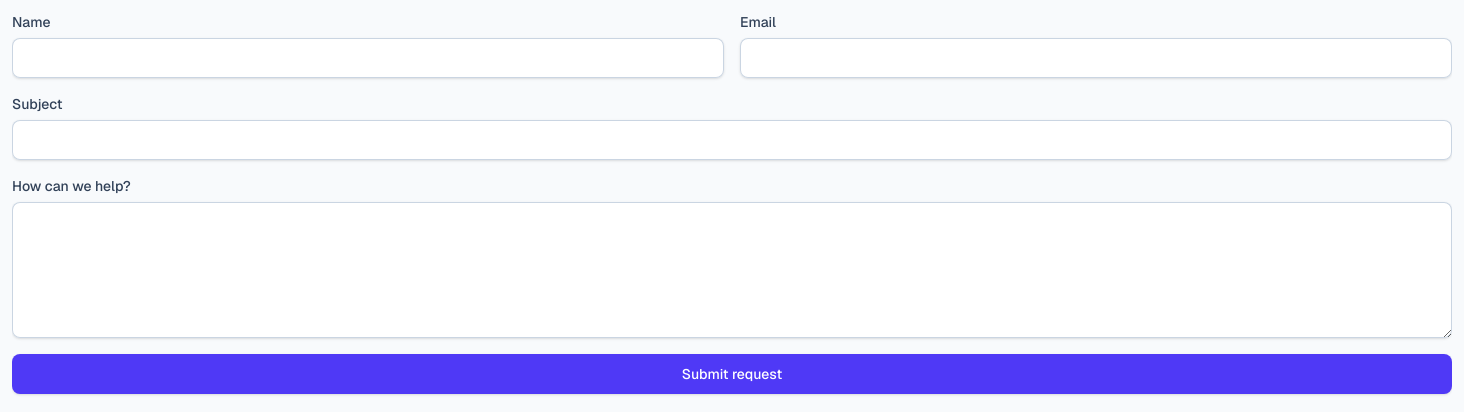
Test: TicketForm › submits the ticket and shows the confirmation
Type "Jane Doe" into the field labelled "Name".
click(368, 58); type("Jane Doe")  # box [12, 38, 724, 78]
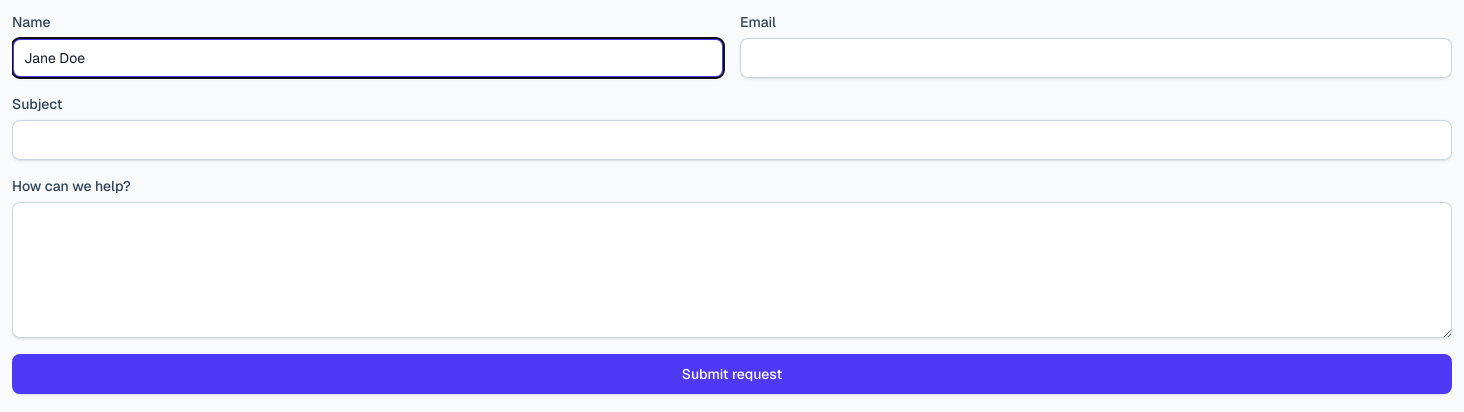
Type "jane@example.com" into the field labelled "Email".
click(1096, 58); type("jane@example.com")  # box [740, 38, 1452, 78]
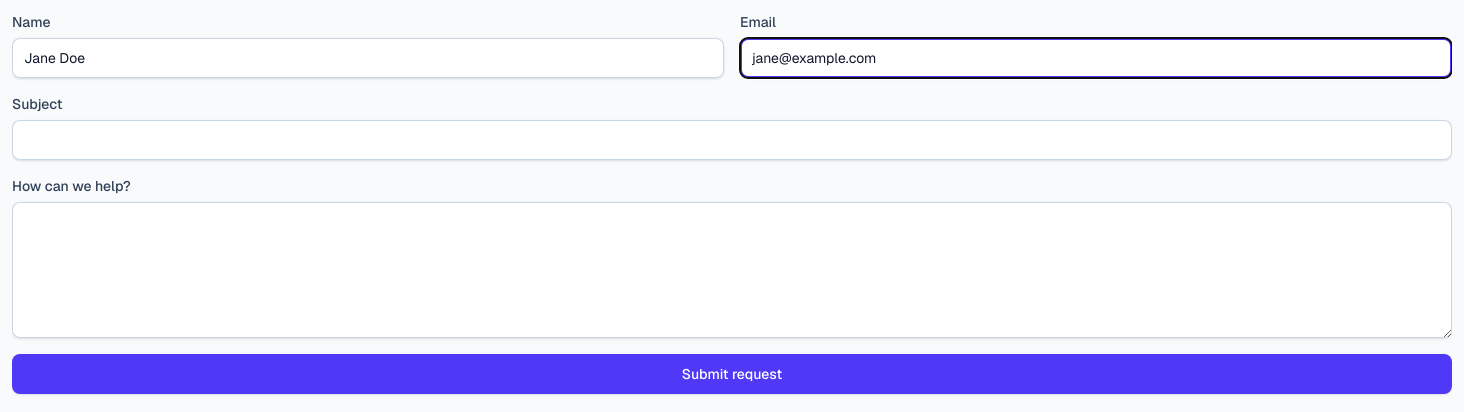
Type "Refund" into the field labelled "Subject".
click(732, 140); type("Refund")  # box [12, 120, 1452, 160]
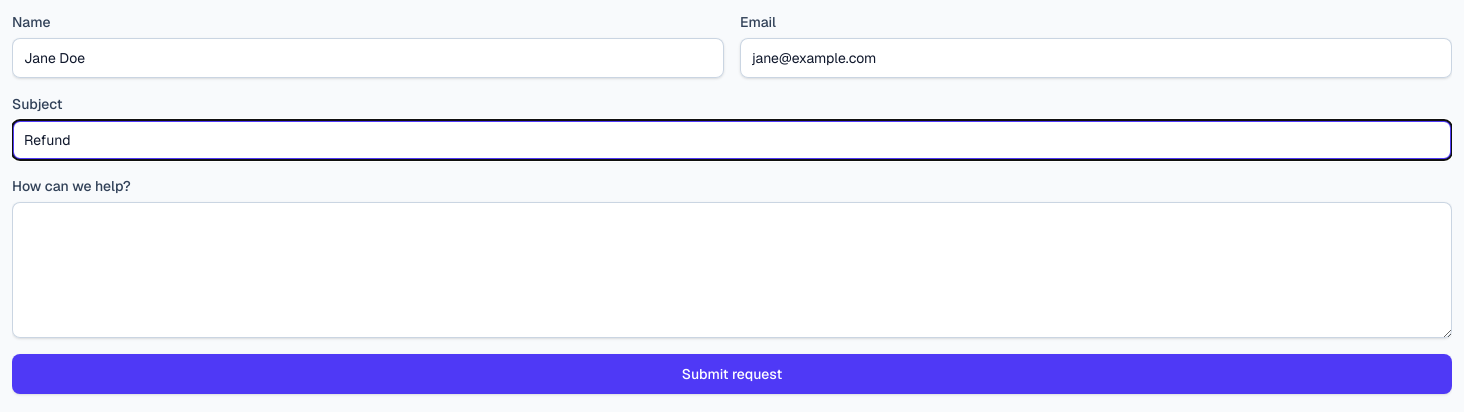
Type "I was charged twice." into the text box labelled "How can we help?".
click(732, 270); type("I was charged twice.")  # box [12, 202, 1452, 338]
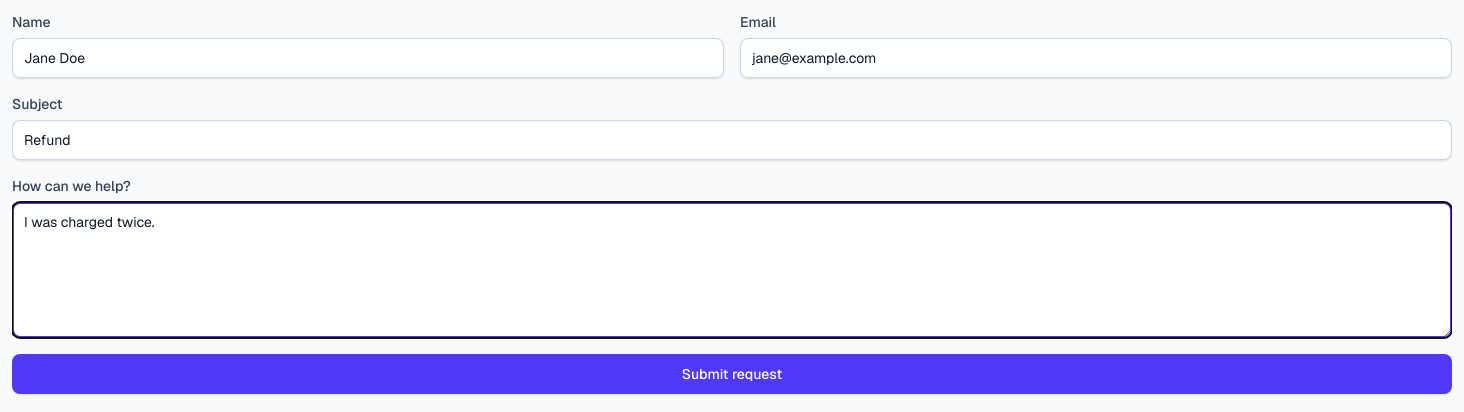
Click the button "Submit request".
click(732, 374)  # box [12, 354, 1452, 394]
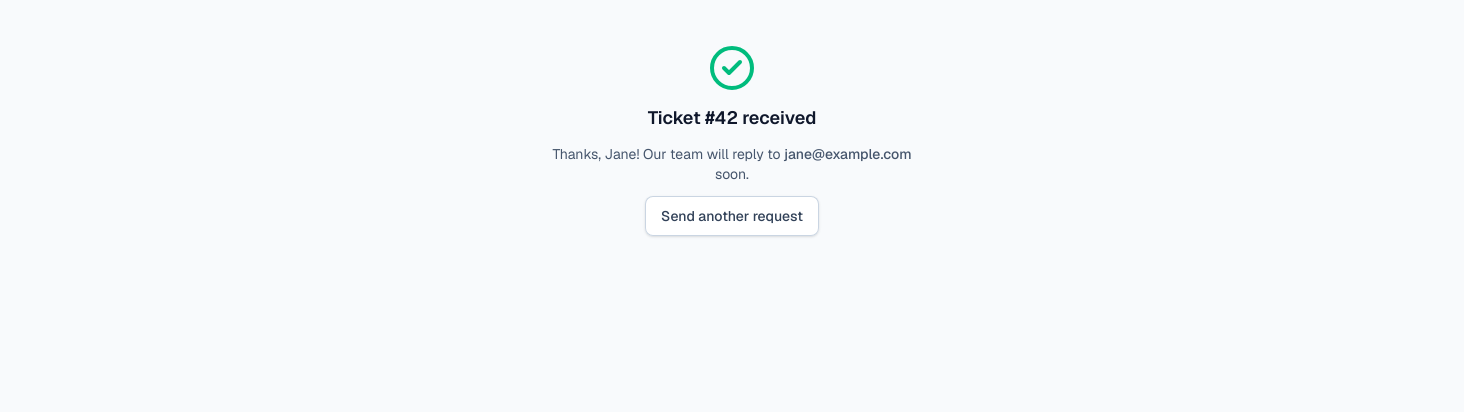
Expected: the heading "Ticket #42 received" is shown, [648, 104, 816, 132]
